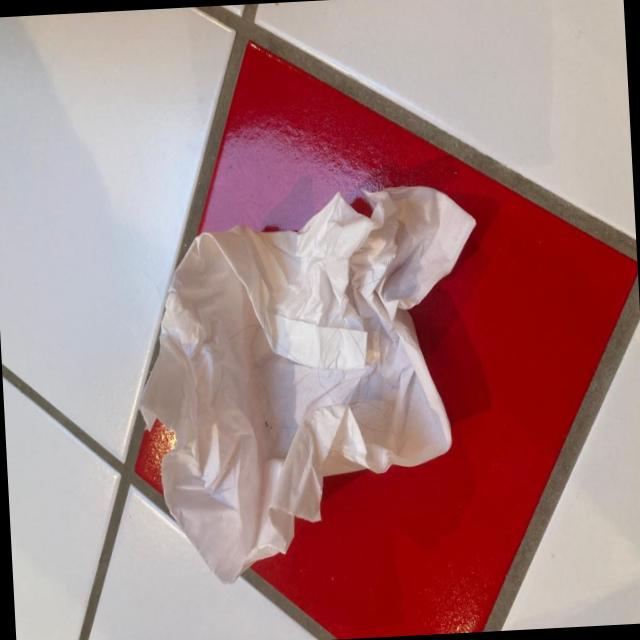organic waste: (124, 174, 498, 586)
